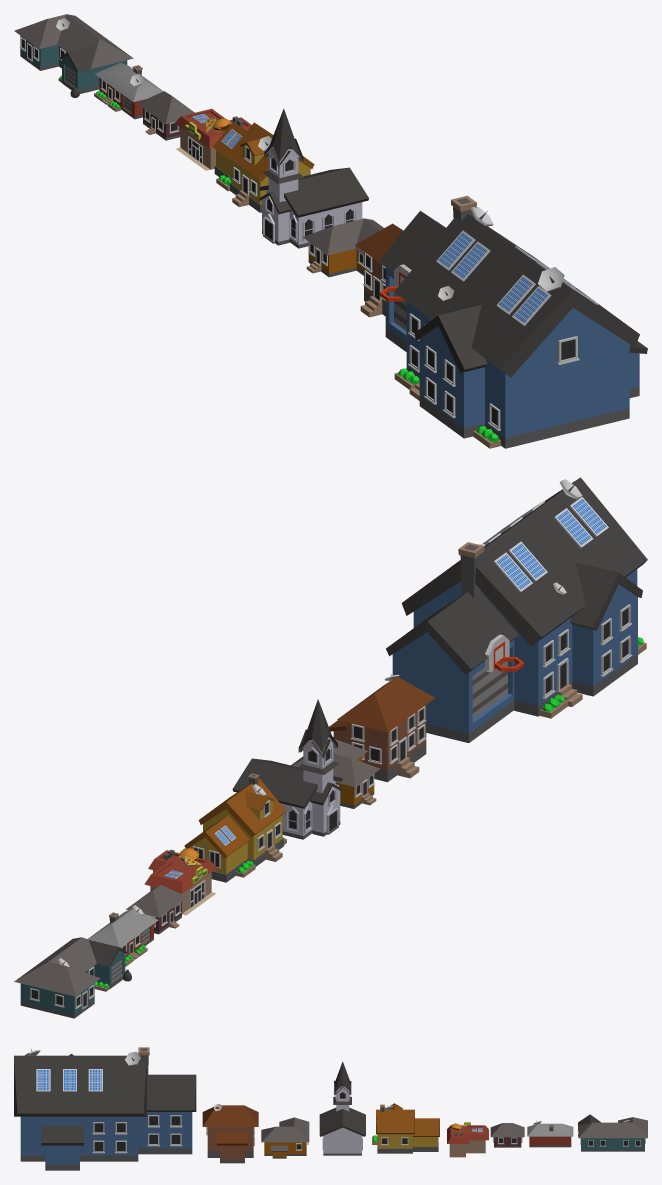
Rendered from ДОМА.fbx.
The picture shows the model from 3 angles, top to bottom: view 1: azimuth 30°, elevation 25°; view 2: azimuth 150°, elevation 25°; view 3: azimuth 270°, elevation 25°; orthographic projection. The views are drawn at different scales.
Parts seen in each view (by area): view 1: Куб_18_4, Куб_1_3, Куб_12_3, Куб_1_5, Куб_3_3, Куб_10, Куб_14_3, Куб_8_4, Куб_18_10, Куб_9_4, Куб_7_2, Куб_2_10 (+10 smaller); view 2: Куб_18_4, Куб_3_3, Куб_1_3, Куб_7_2, Куб_1_5, Куб_12_3, Куб_14_3, Куб_10, Куб_1_11, Куб_8_4, Куб_1_8, Куб_9_4 (+4 smaller); view 3: Куб_18_4, Куб_3_3, Куб_12_3, Куб_1_5, Куб_7_2, Куб_2_2, Куб_14_3, Куб_10, Куб_8_4, Куб_27_2, Куб_1_11, Куб_9_4 (+9 smaller).
Part boxes in pixels (x1,y1,x2,y2): Куб_18_4: (394,214,639,448); Куб_1_3: (414,305,487,438); Куб_12_3: (259,167,368,248); Куб_1_5: (14,14,133,70); Куб_3_3: (379,211,445,351); Куб_10: (303,218,383,277); Куб_14_3: (227,122,314,204); Куб_8_4: (95,63,163,119); Куб_18_10: (59,45,106,93); Куб_9_4: (137,91,194,140); Куб_7_2: (355,223,403,316); Куб_2_10: (262,138,304,201); Куб_18_4: (401,477,647,716); Куб_3_3: (386,591,518,742); Куб_1_3: (569,562,642,696); Куб_7_2: (337,677,434,782); Куб_1_5: (14,937,100,1018); Куб_12_3: (232,758,342,839); Куб_14_3: (198,778,286,859); Куб_10: (291,739,380,808); Куб_1_11: (184,815,249,873); Куб_8_4: (87,909,158,956); Куб_1_8: (144,850,216,893); Куб_9_4: (126,884,187,934); Куб_18_4: (14,1055,146,1161); Куб_3_3: (138,1074,196,1154); Куб_12_3: (319,1107,365,1155); Куб_1_5: (578,1117,647,1151); Куб_7_2: (202,1105,258,1157); Куб_2_2: (41,1125,83,1170); Куб_14_3: (376,1109,414,1148); Куб_10: (261,1117,309,1155); Куб_8_4: (527,1123,573,1147); Куб_27_2: (217,1132,247,1163); Куб_1_11: (412,1118,439,1146); Куб_9_4: (490,1123,524,1147).
Size of the model in its own units: 733 by 626 by 3655.
